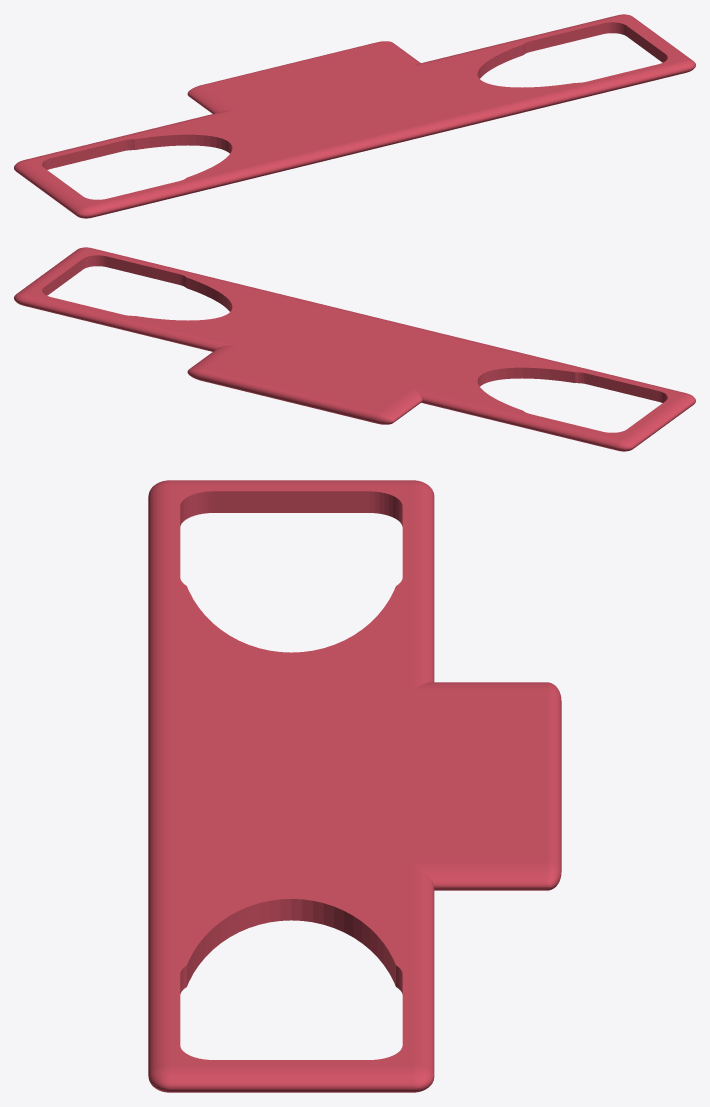
The model's file is trash-can-elastic.glb.
3 renders of one model, top to bottom at view 1: azimuth 30°, elevation 25°; view 2: azimuth 150°, elevation 25°; view 3: azimuth 270°, elevation 25°, orthographic. The views are drawn at different scales.
Visible parts, largest first — view 1: Mesh_Mesh_head_geo.001_lambert2SG.001; view 2: Mesh_Mesh_head_geo.001_lambert2SG.001; view 3: Mesh_Mesh_head_geo.001_lambert2SG.001.
Boxes of the visible parts, x1,y1,x2,y2 form: Mesh_Mesh_head_geo.001_lambert2SG.001: (14, 14, 695, 218); Mesh_Mesh_head_geo.001_lambert2SG.001: (14, 247, 695, 451); Mesh_Mesh_head_geo.001_lambert2SG.001: (148, 480, 561, 1092).
Bounding box in the file's own units: 90 × 1.5 × 26.
